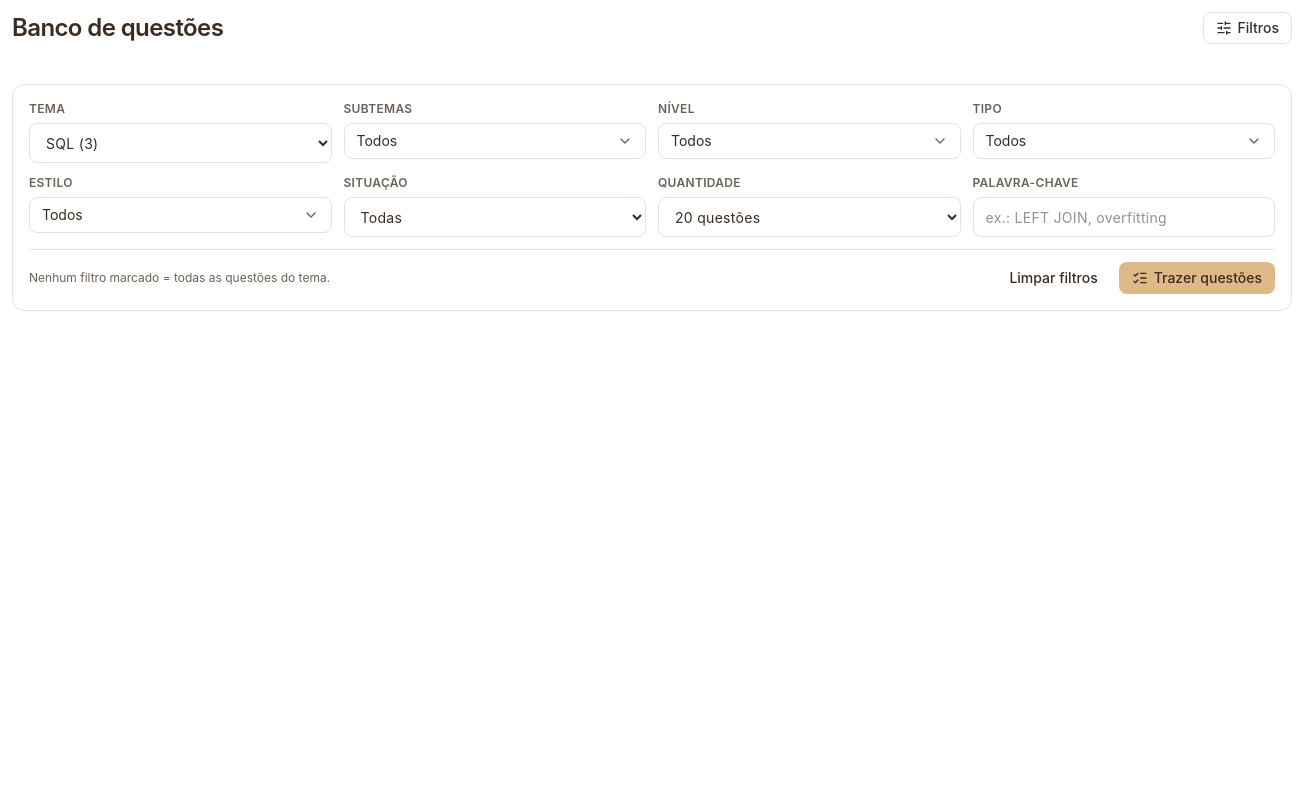
Scenario: banco de questões › favorita e filtra as favoritas
Click the button "Trazer questões" at (1197, 278), box [1119, 262, 1275, 294]
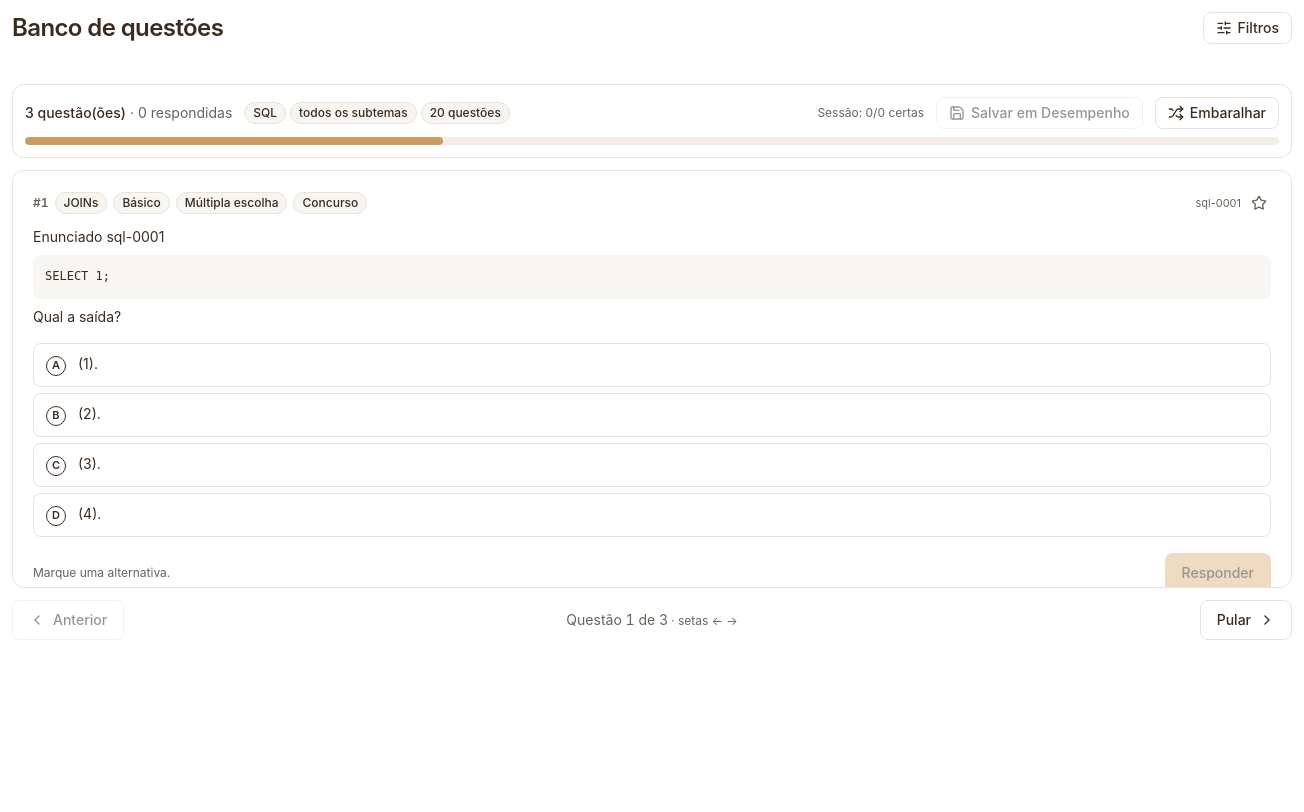
Expected: the text "3 questão(ões)" is shown, [25, 104, 126, 121]
Click the button "Pular" at (1246, 620), box [1200, 600, 1292, 640]
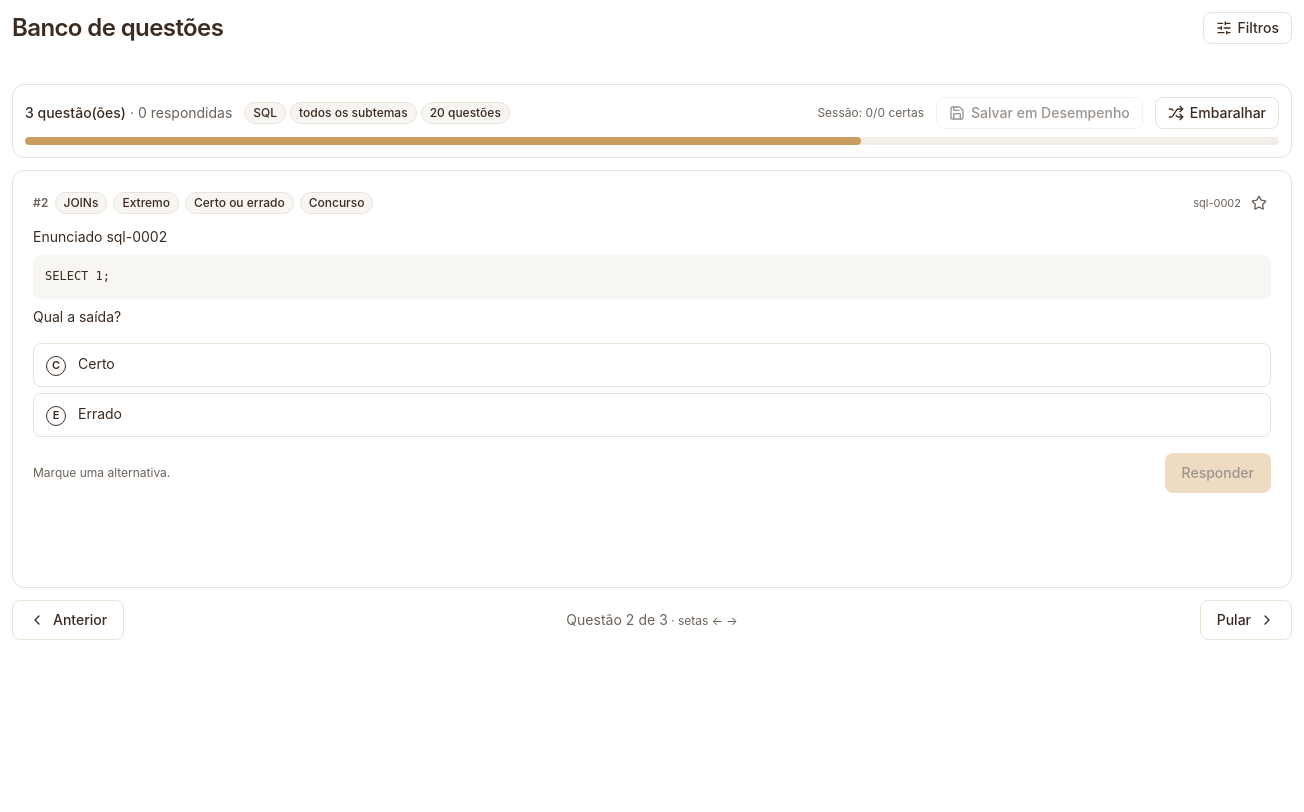
Click the button named "Favoritar" at (1259, 203), box [1247, 191, 1271, 215]
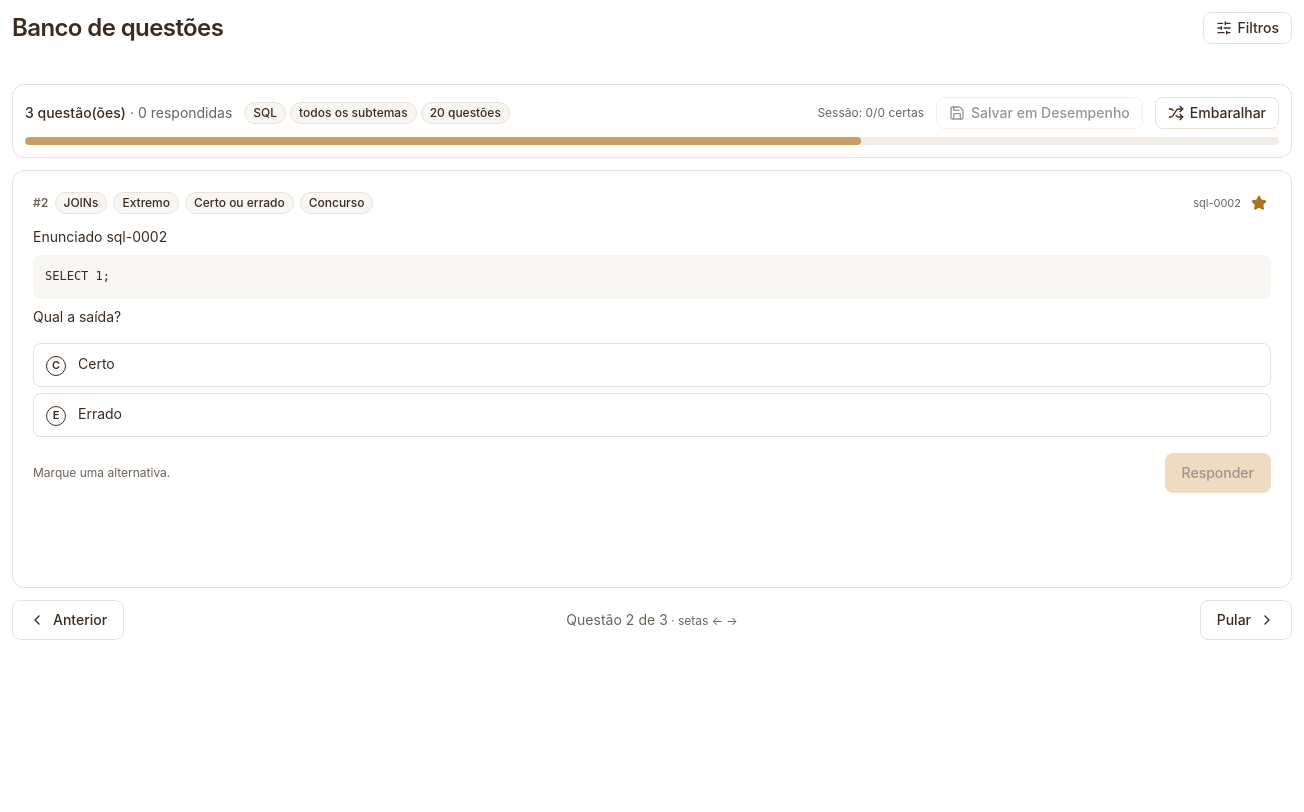
Click the button "Filtros" at (1247, 28), box [1203, 12, 1292, 44]
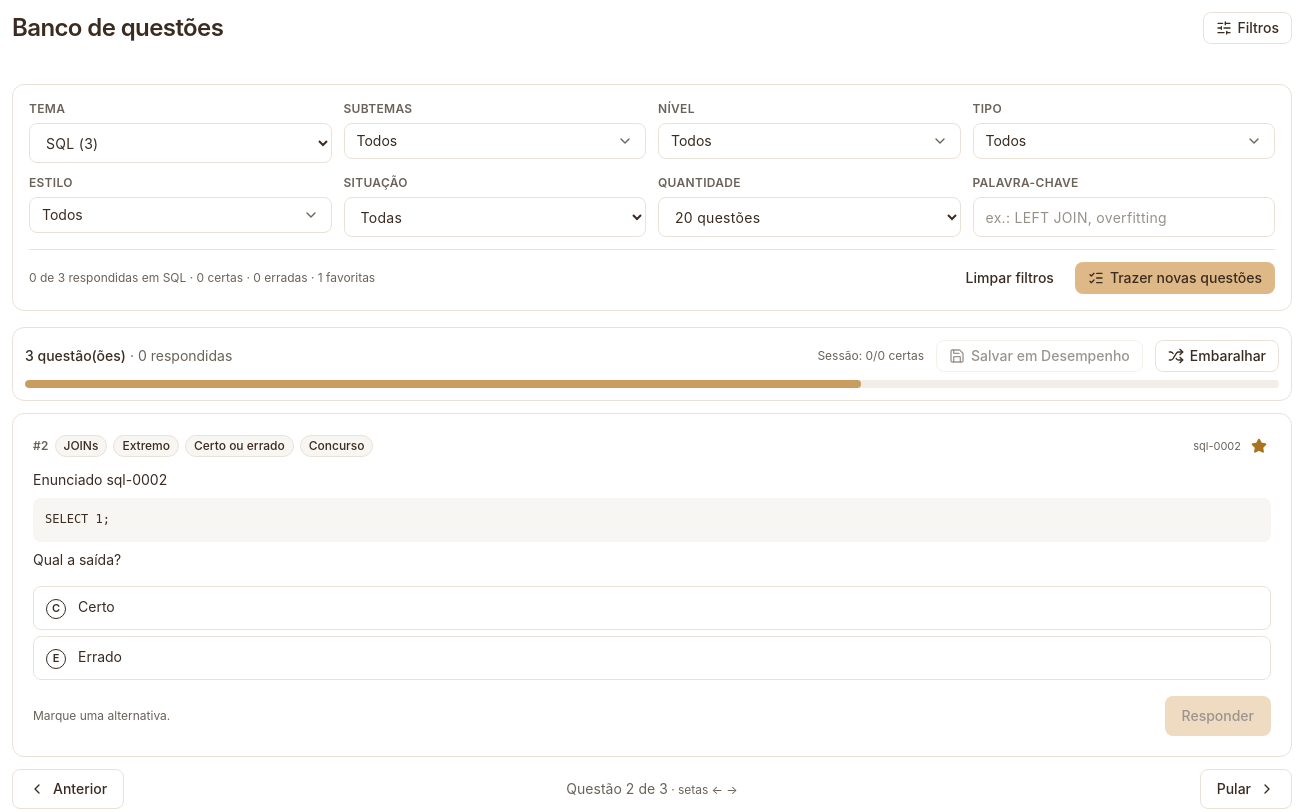
Select "Favoritas" in the dropdown labelled "Situação" at (495, 217), box [344, 197, 646, 237]
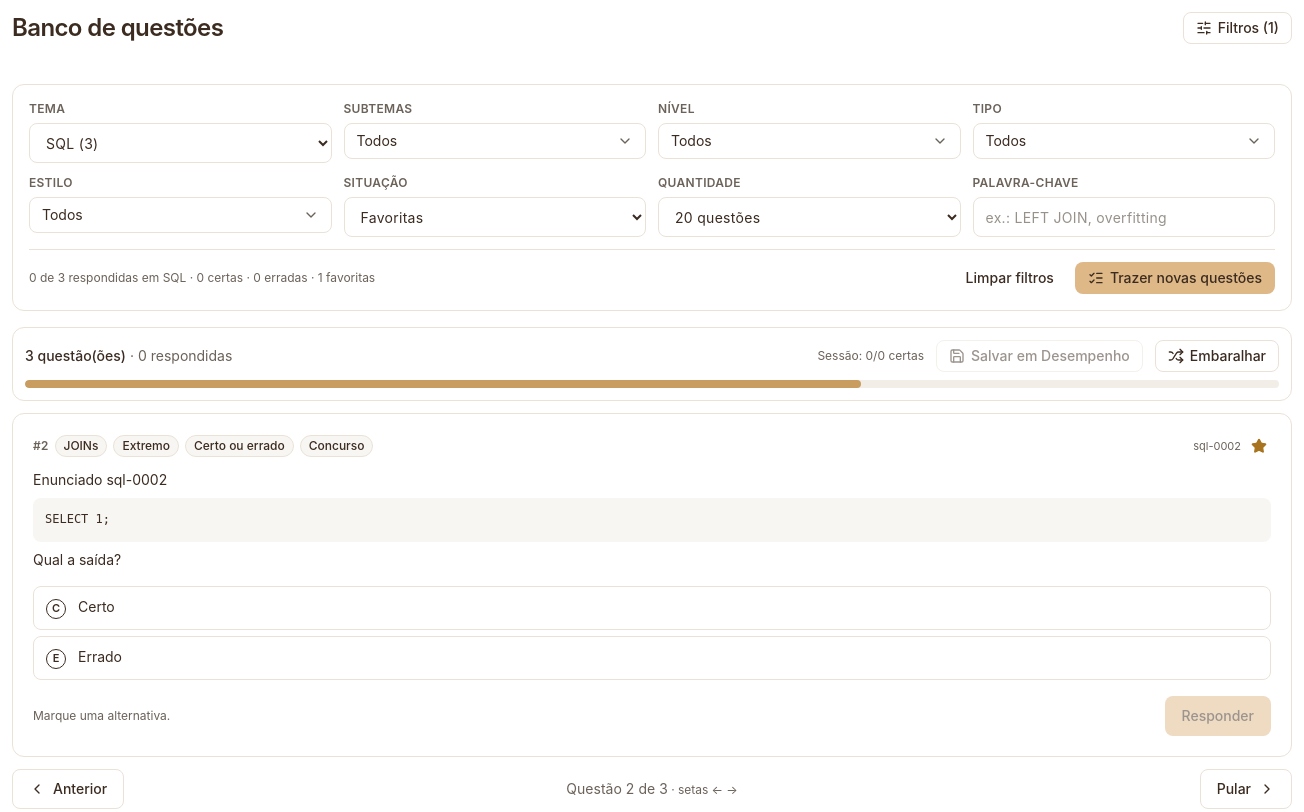
Click the button "Trazer novas questões" at (1175, 278), box [1075, 262, 1275, 294]
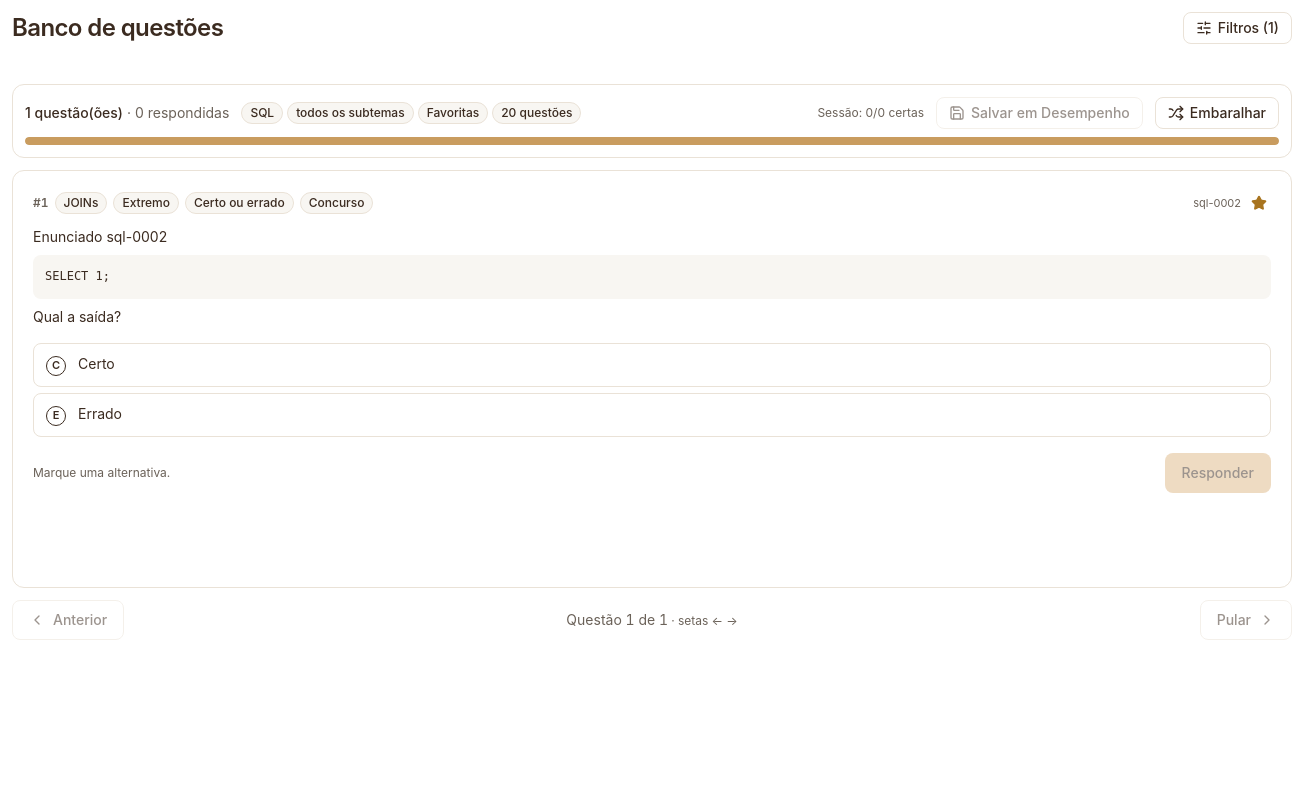
Expected: the text "sql-0001" is not shown
Expected: the text "sql-0002" is shown, [1193, 195, 1241, 211]
Expected: the text "1 questão(ões)" is shown, [25, 104, 123, 121]
